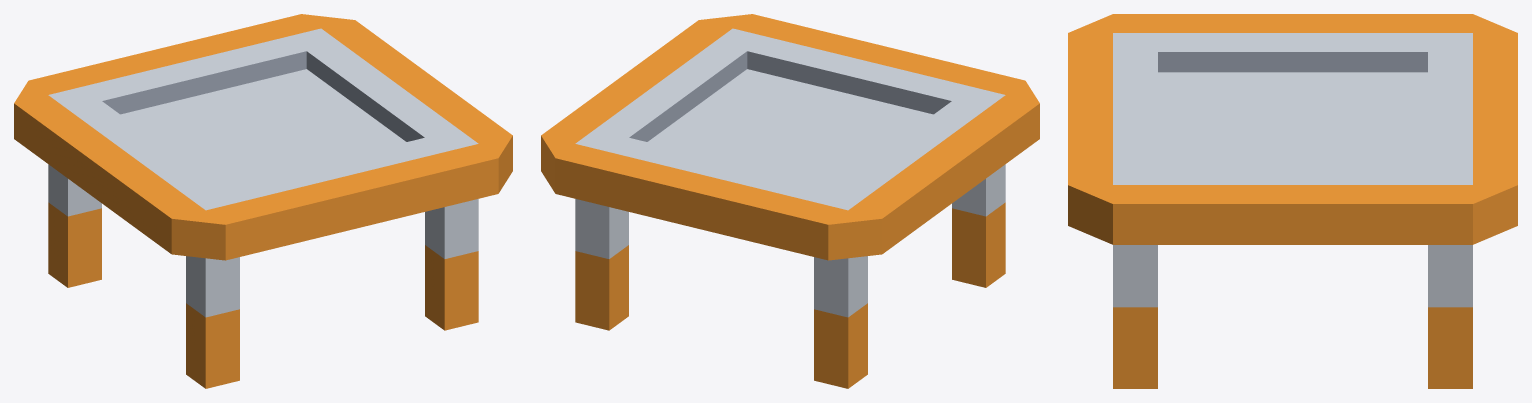
Rendered from platform_low.glb.
The picture shows the model from 3 angles, left to right: view 1: azimuth 30°, elevation 25°; view 2: azimuth 150°, elevation 25°; view 3: azimuth 270°, elevation 25°; orthographic projection. The views are drawn at different scales.
Parts seen in each view (by area): view 1: platform_low; view 2: platform_low; view 3: platform_low.
Part boxes in pixels (x1,y1,x2,y2): platform_low: (14,14,512,388); platform_low: (541,14,1039,388); platform_low: (1068,14,1517,388).
Size of the model in its own units: 1 by 0.5 by 1.
